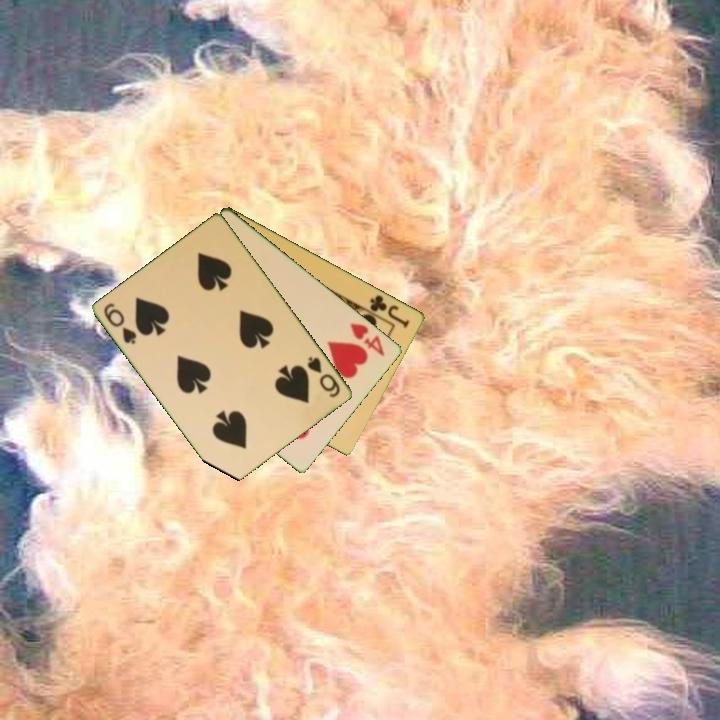4h: (347, 319, 388, 359)
6s: (100, 299, 140, 348), (304, 353, 344, 400)
Jc: (366, 291, 413, 331)
